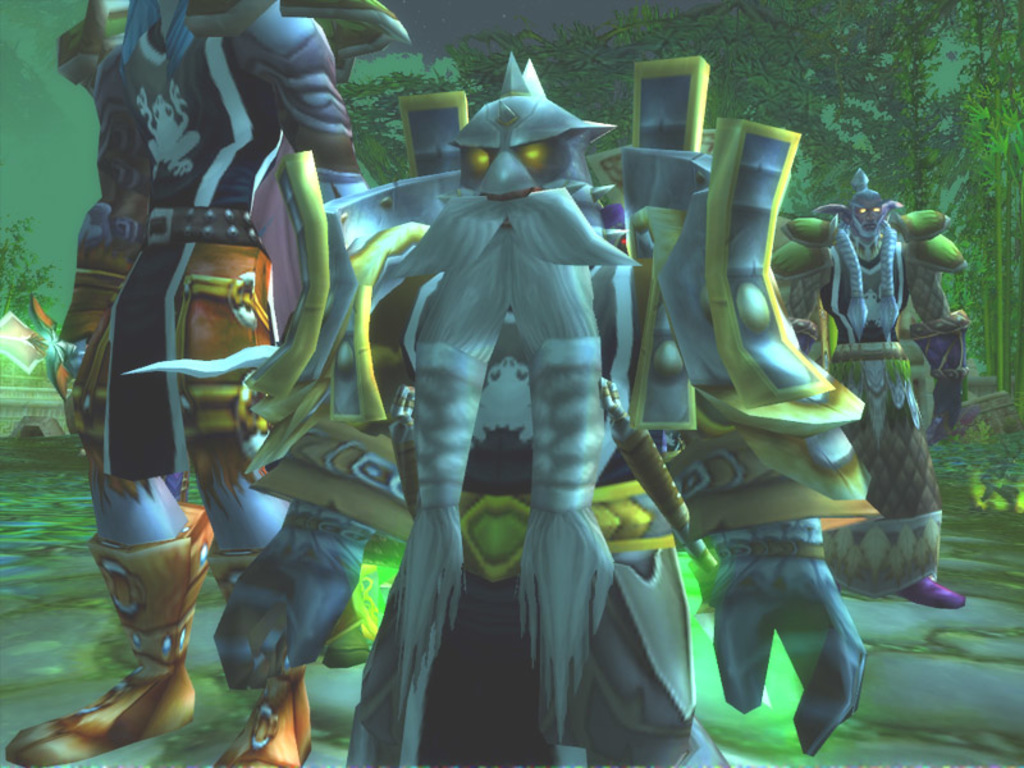Person: (5, 0, 971, 767)
